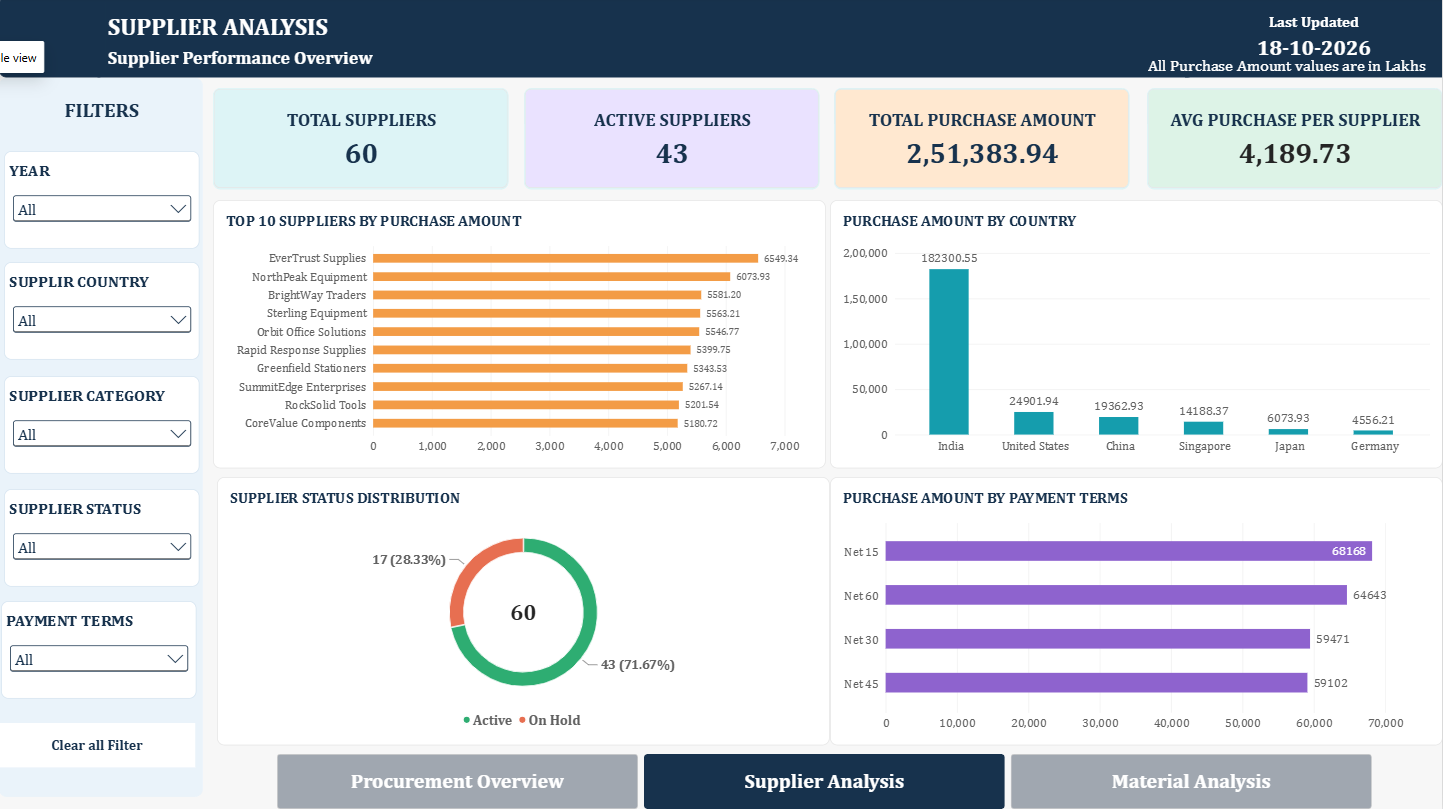

The dashboard page shown, as its layout file describes it:
{"tool":"powerbi","page":{"name":"Supplier Analysis","canvas":[1920,1080],"ordinal":1},"visuals":[{"type":"textbox","title":"SUPPLIER ANALYSIS","box":[123.9,0,1466.7,106.7],"z":0},{"type":"shape","box":[0.4,107.7,271.5,956.4],"z":0,"group":"g1"},{"type":"cardVisual","fields":{"Data":["Data.Last Updated"]},"box":[1578,0,342,106.7],"z":1000},{"type":"actionButton","box":[-0.3,965.7,260.7,59.3],"z":1000,"group":"g1"},{"type":"textbox","box":[0,0,141.5,106.5],"z":2000},{"type":"textbox","box":[5.7,127.9,259.9,64.2],"z":2000,"group":"g1"},{"type":"group","id":"g1","title":"Group 1","box":[-0.3,107.7,272.1,956.4],"z":3000},{"type":"slicer","title":"YEAR","fields":{"Values":["Dim_Calender.Year"]},"box":[5.7,205.2,259.6,130],"z":3000,"group":"g1"},{"type":"cardVisual","fields":{"Data":["Data.Total Suppliers"]},"box":[284.9,121.5,393,134.9],"z":4000},{"type":"slicer","title":"SUPPLIR COUNTRY","fields":{"Values":["Data.Supplier Country"]},"box":[5.7,352.6,259.9,129.8],"z":4000,"group":"g1"},{"type":"cardVisual","fields":{"Data":["Data.Active Suppliers"]},"box":[698.9,121.5,393,134.9],"z":5000},{"type":"slicer","title":"SUPPLIER CATEGORY","fields":{"Values":["Data.Supplier Category"]},"box":[5.7,504.3,259.6,130],"z":5000,"group":"g1"},{"type":"cardVisual","fields":{"Data":["Data.Total Purchase Amount (Lakhs)"]},"box":[1111,121.5,393,134.9],"z":6000},{"type":"slicer","title":"SUPPLIER STATUS","fields":{"Values":["Data.Supplier Status"]},"box":[5.7,654.6,259.6,130],"z":6000,"group":"g1"},{"type":"cardVisual","fields":{"Data":["Data.Average Purchase per Supplier (Lakhs)"]},"box":[1526.9,121.5,393.1,134.8],"z":7000},{"type":"slicer","title":"PAYMENT TERMS","fields":{"Values":["Data.Supplier Payment Terms"]},"box":[1.8,803.6,259.6,130],"z":7000,"group":"g1"},{"type":"clusteredBarChart","title":"TOP 10 SUPPLIERS BY PURCHASE AMOUNT","fields":{"Category":["Dim_Supplier.Supplier Name"],"Y":["Data.Total Purchase Amount (Lakhs)"]},"box":[285,270,815,357],"z":8000},{"type":"clusteredColumnChart","title":"PURCHASE AMOUNT BY COUNTRY","fields":{"Category":["Dim_Supplier.Supplier Country"],"Y":["Data.Total Purchase Amount (Lakhs)"]},"box":[1105,270,815,357],"z":9000},{"type":"donutChart","title":"SUPPLIER STATUS DISTRIBUTION","fields":{"Category":["Dim_Supplier.Supplier Status"],"Y":["CountNonNull(Dim_Supplier.Supplier ID)"]},"box":[290,638.3,815,357],"z":10000},{"type":"clusteredBarChart","title":"PURCHASE AMOUNT BY PAYMENT TERMS","fields":{"Category":["Data.Supplier Payment Terms"],"Y":["Data.Total Purchase Amount (Lakhs)"]},"box":[1105,638,815,357],"z":11000},{"type":"pageNavigator","box":[370,1006.7,1458.3,73.3],"z":12000},{"type":"textbox","box":[1528.1,78.7,391.9,44.1],"z":12001}]}

Visuals, with their boxes on the page's 1920x1080 design canvas (x1, y1, x2, y2). These are canvas units, not pixel positions in the 1443x809 screenshot, which may show the page scaled, cropped or inside an application window:
"SUPPLIER ANALYSIS" textbox: crop(124, 0, 1591, 107)
shape: crop(0, 108, 272, 1064)
cardVisual - Data.Last Updated: crop(1578, 0, 1920, 107)
actionButton: crop(0, 966, 260, 1025)
textbox: crop(0, 0, 142, 106)
textbox: crop(6, 128, 266, 192)
"Group 1" group: crop(0, 108, 272, 1064)
"YEAR" slicer: crop(6, 205, 265, 335)
cardVisual - Data.Total Suppliers: crop(285, 122, 678, 256)
"SUPPLIR COUNTRY" slicer: crop(6, 353, 266, 482)
cardVisual - Data.Active Suppliers: crop(699, 122, 1092, 256)
"SUPPLIER CATEGORY" slicer: crop(6, 504, 265, 634)
cardVisual - Data.Total Purchase Amount (Lakhs): crop(1111, 122, 1504, 256)
"SUPPLIER STATUS" slicer: crop(6, 655, 265, 785)
cardVisual - Data.Average Purchase per Supplier (Lakhs): crop(1527, 122, 1920, 256)
"PAYMENT TERMS" slicer: crop(2, 804, 261, 934)
"TOP 10 SUPPLIERS BY PURCHASE AMOUNT" clusteredBarChart: crop(285, 270, 1100, 627)
"PURCHASE AMOUNT BY COUNTRY" clusteredColumnChart: crop(1105, 270, 1920, 627)
"SUPPLIER STATUS DISTRIBUTION" donutChart: crop(290, 638, 1105, 995)
"PURCHASE AMOUNT BY PAYMENT TERMS" clusteredBarChart: crop(1105, 638, 1920, 995)
pageNavigator: crop(370, 1007, 1828, 1080)
textbox: crop(1528, 79, 1920, 123)
